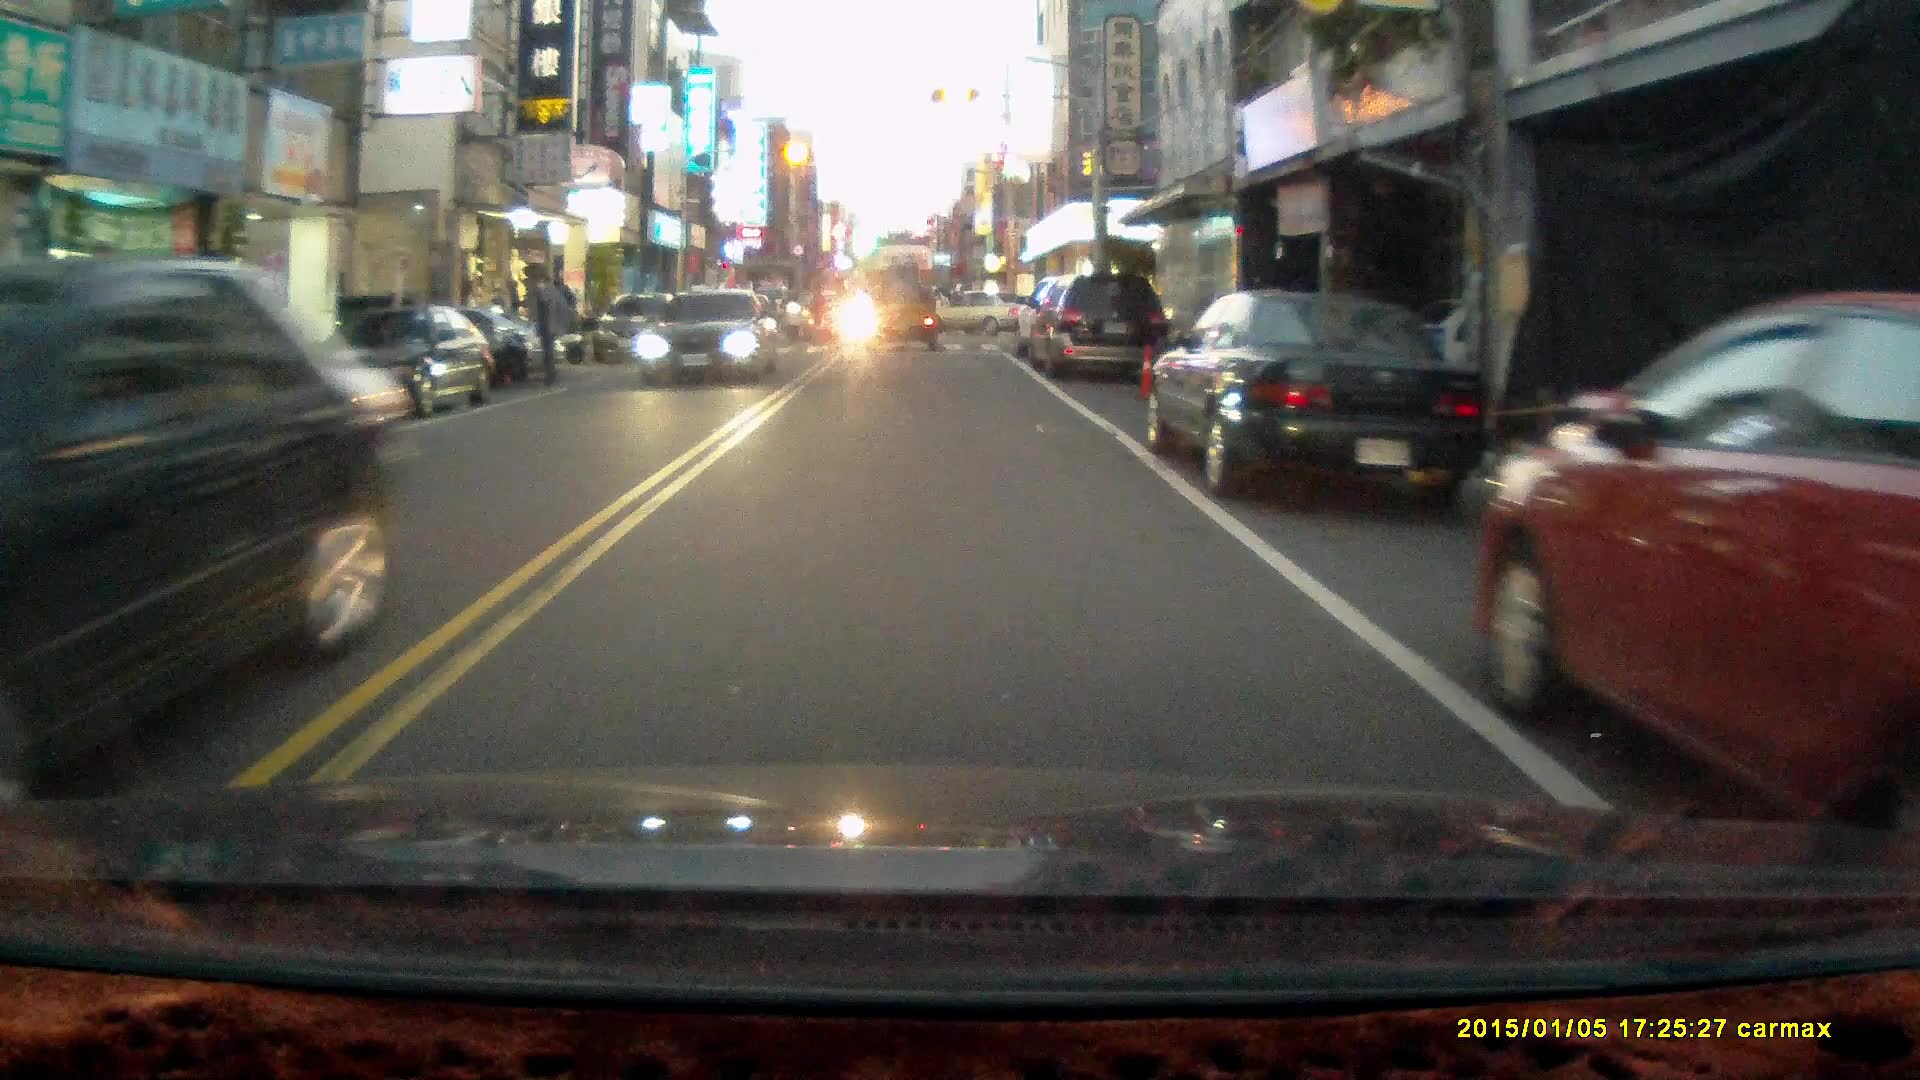pedestrian: (530, 268, 570, 387)
vehicle: (1476, 290, 1920, 838), (5, 256, 409, 804), (1142, 288, 1495, 515), (289, 296, 488, 415), (1023, 274, 1173, 384), (638, 286, 779, 387), (921, 286, 1050, 338), (866, 270, 939, 353)
